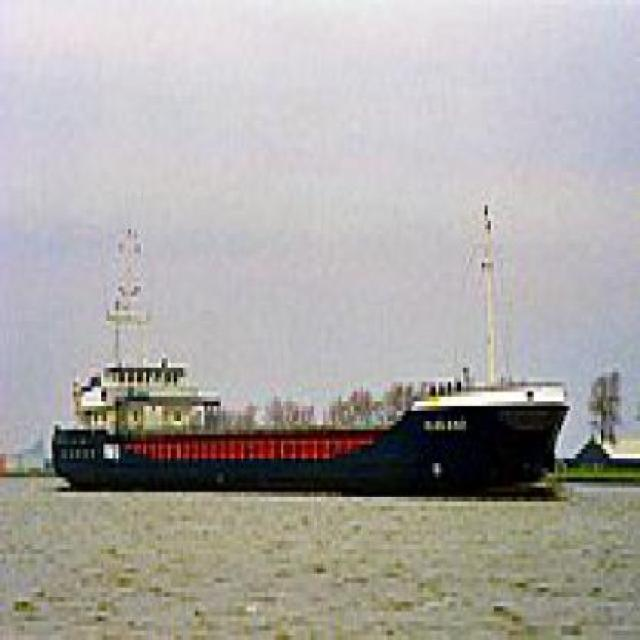container: (43, 346, 577, 507)
